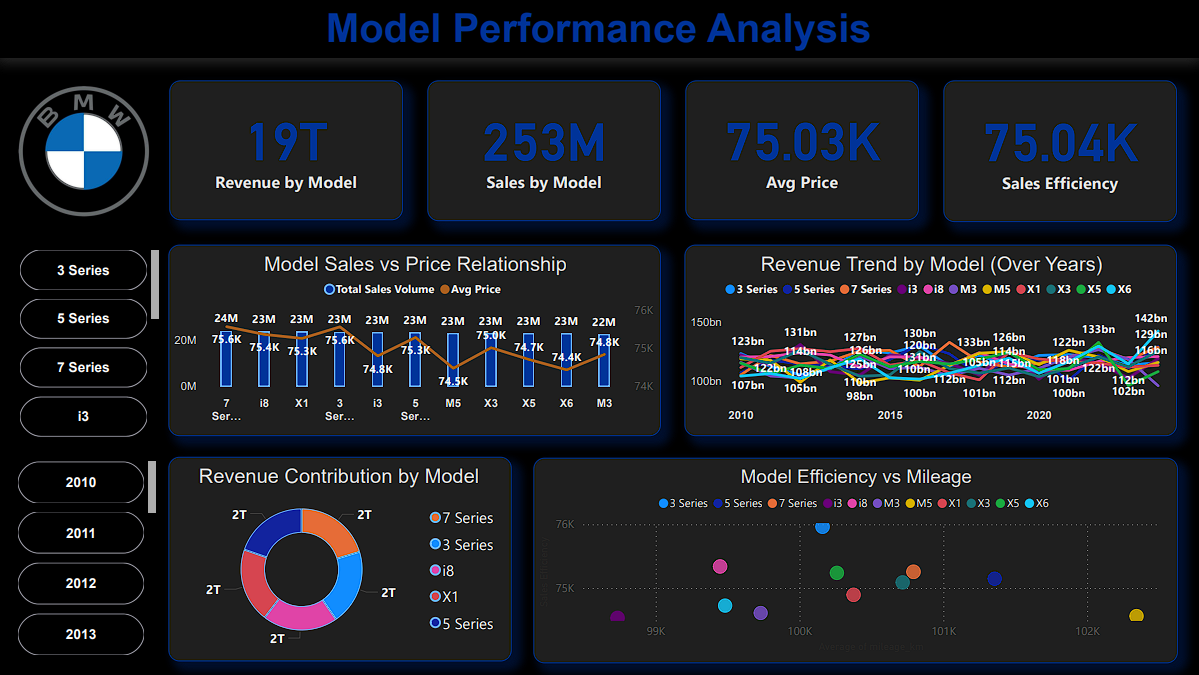

The dashboard page shown, as its layout file describes it:
{"tool":"powerbi","page":{"name":"MPA","canvas":[1280,720],"ordinal":1},"visuals":[{"type":"textbox","title":" Model Performance Analysis  ","box":[0,0,1280.3,61.7],"z":0},{"type":"card","fields":{"Values":["BMW_Sales.Top Models Revenue"]},"box":[181.5,85.1,249,149],"z":1000},{"type":"card","fields":{"Values":["BMW_Sales.Sales by Model"]},"box":[456.5,85.2,249.7,149.6],"z":2000},{"type":"card","fields":{"Values":["BMW_Sales.Avg Price"]},"box":[731.5,85.1,249,149],"z":3000},{"type":"card","fields":{"Values":["BMW_Sales.Sales Efficiency"]},"box":[1006.5,85.1,249.7,150.9],"z":4000},{"type":"advancedSlicerVisual","fields":{"Values":["BMW_Sales.model"]},"box":[21.4,264.3,151.4,204.3],"z":5000},{"type":"lineStackedColumnComboChart","title":"Model Sales vs Price Relationship","fields":{"Category":["BMW_Sales.model"],"Y":["BMW_Sales.Total Sales Volume"],"Y2":["BMW_Sales.Avg Price"]},"box":[181.2,260,525,203.8],"z":6000},{"type":"lineChart","title":"Revenue Trend by Model (Over Years)","fields":{"Category":["BMW_Sales.year"],"Y":["BMW_Sales.Total Revenue"],"Series":["BMW_Sales.model"]},"box":[731.4,260,524.3,204.3],"z":7000},{"type":"advancedSlicerVisual","title":"Year ","fields":{"Values":["BMW_Sales.year"]},"box":[18.9,487,151.1,218.6],"z":8000},{"type":"scatterChart","title":"Model Efficiency vs Mileage","fields":{"X":["Avg(BMW_Sales.mileage_km)"],"Y":["BMW_Sales.Sales Efficiency"],"Series":["BMW_Sales.model"],"Size":["BMW_Sales.Total Revenue"]},"box":[570,487.1,687.1,218.6],"z":9000},{"type":"donutChart","title":"Revenue Contribution by Model","fields":{"Y":["BMW_Sales.Total Revenue"],"Category":["BMW_Sales.model"]},"box":[181.4,485.7,365.7,218.6],"z":10000},{"type":"image","box":[0,85,182,150],"z":10001}]}

Visuals, with their boxes in screenshot pixels (x1, y1, x2, y2), scaled from the page's 1280x720 canvas onto the 1199x675 screenshot:
" Model Performance Analysis  " textbox: bbox(0, 0, 1198, 58)
card - BMW_Sales.Top Models Revenue: bbox(170, 80, 403, 219)
card - BMW_Sales.Sales by Model: bbox(428, 80, 662, 220)
card - BMW_Sales.Avg Price: bbox(685, 80, 918, 219)
card - BMW_Sales.Sales Efficiency: bbox(943, 80, 1177, 221)
advancedSlicerVisual - BMW_Sales.model: bbox(20, 248, 162, 439)
"Model Sales vs Price Relationship" lineStackedColumnComboChart: bbox(170, 244, 662, 435)
"Revenue Trend by Model (Over Years)" lineChart: bbox(685, 244, 1176, 435)
"Year " advancedSlicerVisual: bbox(18, 457, 159, 662)
"Model Efficiency vs Mileage" scatterChart: bbox(534, 457, 1178, 662)
"Revenue Contribution by Model" donutChart: bbox(170, 455, 512, 660)
image: bbox(0, 80, 170, 220)
